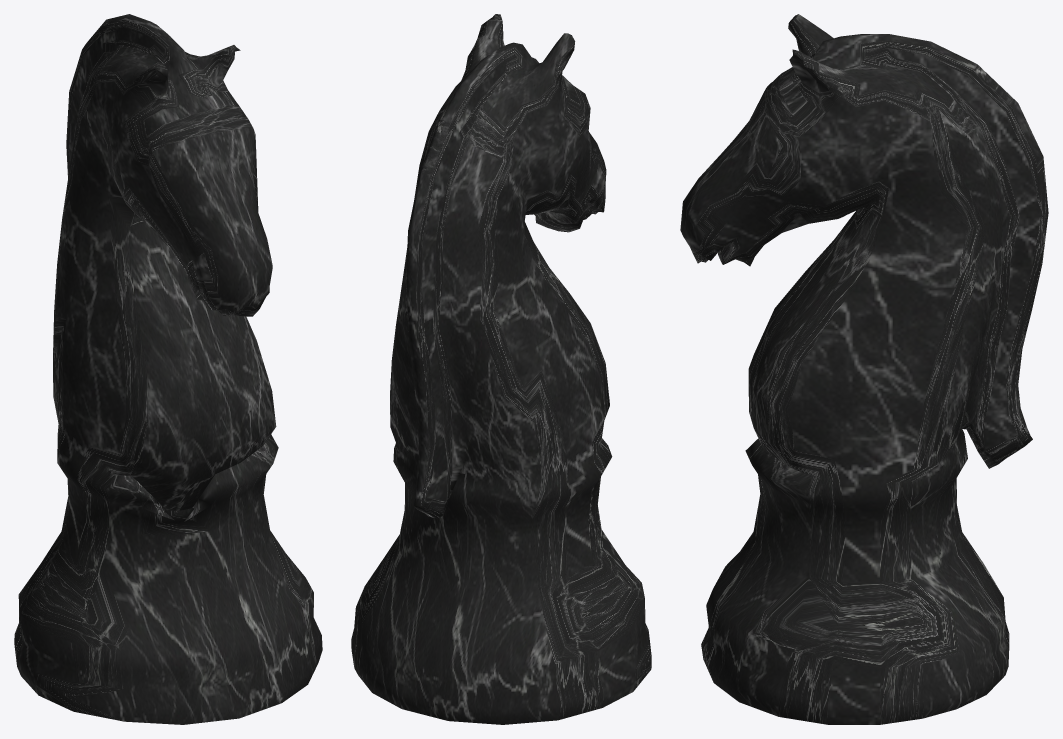
Rendered from horseblack0.glb.
The picture shows the model from 3 angles, left to right: view 1: azimuth 30°, elevation 25°; view 2: azimuth 150°, elevation 25°; view 3: azimuth 270°, elevation 25°; orthographic projection.
Bounding box in the file's own units: 0.8346 × 1.89 × 1.
1 material, 1 textured.
